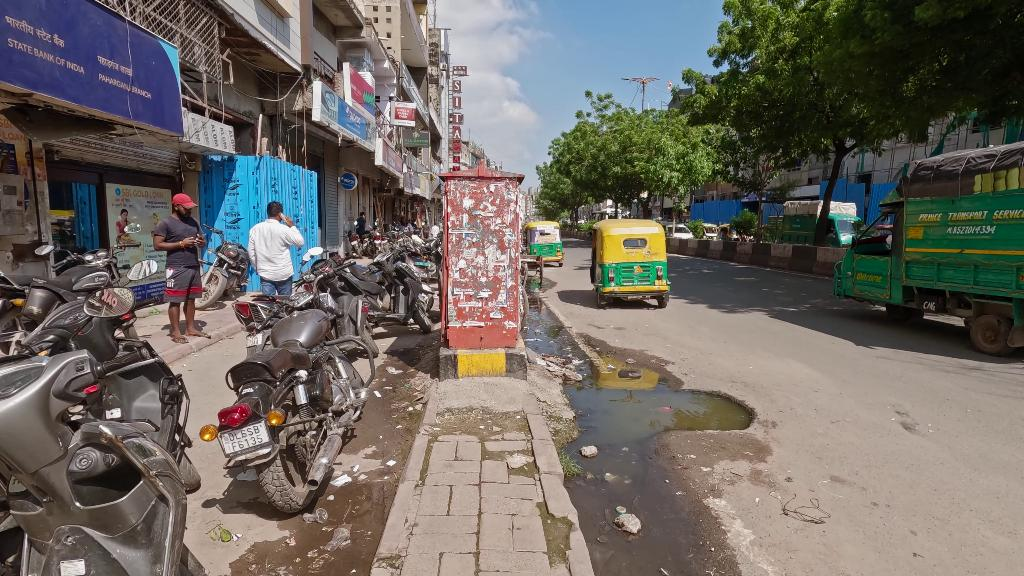garbage: (613, 501, 639, 535), (329, 472, 353, 483), (581, 444, 595, 456), (387, 365, 400, 375)
